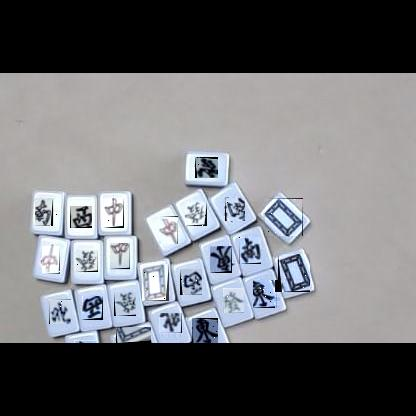1z: (254, 280, 280, 308), (192, 318, 218, 343), (210, 246, 232, 273), (74, 340, 97, 343)
2z: (36, 198, 58, 226), (239, 237, 261, 264), (225, 197, 245, 221)
3z: (180, 269, 202, 295), (82, 296, 103, 320), (70, 206, 92, 228)
4z: (159, 314, 182, 338), (49, 299, 71, 324), (195, 157, 218, 178)
5z: (265, 198, 303, 236), (278, 254, 310, 292), (142, 264, 169, 301), (116, 327, 151, 343)
6z: (185, 202, 207, 226), (114, 292, 136, 316), (223, 288, 244, 313), (76, 250, 98, 272)
7z: (104, 198, 124, 228), (110, 244, 130, 274), (159, 216, 178, 244), (42, 246, 60, 274)
